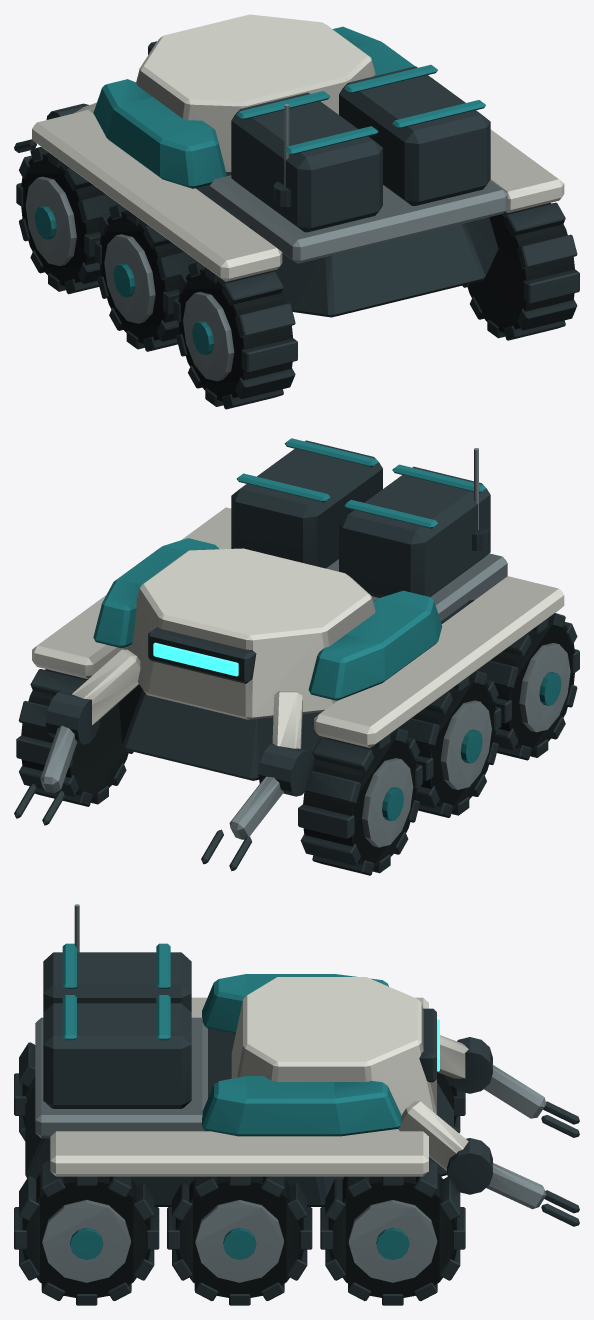
The model's file is MuleEngineer.glb.
3 renders of one model, top to bottom at view 1: azimuth 30°, elevation 25°; view 2: azimuth 150°, elevation 25°; view 3: azimuth 270°, elevation 25°, orthographic. The views are drawn at different scales.
Visible parts, largest first — view 1: export_MuleEngineer_Fender, export_MuleEngineer_Tire, export_MuleEngineer_Tire.003, export_MuleEngineer_Tire.001, export_MuleEngineer_Tire.002, export_MuleEngineer_ToolUpper; view 2: export_MuleEngineer_Fender, export_MuleEngineer_Tire.002, export_MuleEngineer_Tire.001, export_MuleEngineer_Tire, export_MuleEngineer_Tire.005, export_MuleEngineer_ToolUpper.001, export_MuleEngineer_ToolUpper; view 3: export_MuleEngineer_Fender, export_MuleEngineer_Tire.005, export_MuleEngineer_Tire.003, export_MuleEngineer_Tire.004, export_MuleEngineer_ToolUpper.001, export_MuleEngineer_ToolUpper, export_MuleEngineer_Tire, export_MuleEngineer_Tire.002.
Boxes of the visible parts, left/top/right/bottom form: export_MuleEngineer_Fender: left=32, top=14, right=564, bottom=317; export_MuleEngineer_Tire: left=173, top=262, right=297, bottom=409; export_MuleEngineer_Tire.003: left=462, top=202, right=579, bottom=340; export_MuleEngineer_Tire.001: left=95, top=204, right=197, bottom=351; export_MuleEngineer_Tire.002: left=16, top=147, right=119, bottom=294; export_MuleEngineer_ToolUpper: left=14, top=102, right=96, bottom=152; export_MuleEngineer_Fender: left=32, top=438, right=564, bottom=780; export_MuleEngineer_Tire.002: left=298, top=728, right=422, bottom=875; export_MuleEngineer_Tire.001: left=398, top=670, right=501, bottom=817; export_MuleEngineer_Tire: left=477, top=613, right=579, bottom=760; export_MuleEngineer_Tire.005: left=16, top=669, right=133, bottom=806; export_MuleEngineer_ToolUpper.001: left=14, top=649, right=140, bottom=825; export_MuleEngineer_ToolUpper: left=201, top=691, right=313, bottom=871; export_MuleEngineer_Fender: left=25, top=904, right=453, bottom=1206; export_MuleEngineer_Tire.005: left=320, top=1160, right=465, bottom=1305; export_MuleEngineer_Tire.003: left=14, top=1160, right=159, bottom=1305; export_MuleEngineer_Tire.004: left=167, top=1176, right=312, bottom=1305; export_MuleEngineer_ToolUpper.001: left=398, top=1101, right=579, bottom=1226; export_MuleEngineer_ToolUpper: left=437, top=1035, right=579, bottom=1137; export_MuleEngineer_Tire: left=14, top=1042, right=35, bottom=1140; export_MuleEngineer_Tire.002: left=437, top=1072, right=465, bottom=1133.
Bounding box in the file's own units: 2.75 × 2.12 × 3.93.
